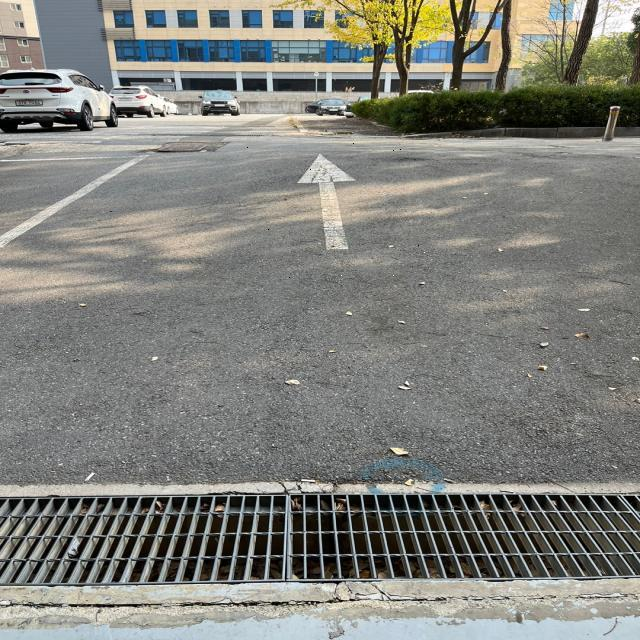forward: (247, 143, 434, 286)
